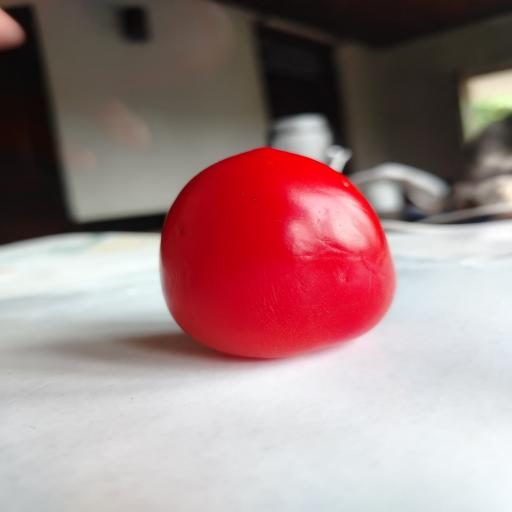ripe: (162, 149, 394, 357)
